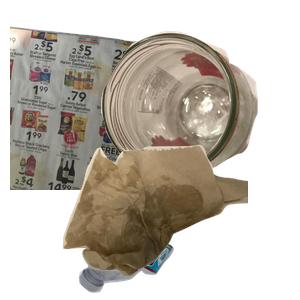glass: (98, 29, 300, 198)
paper: (10, 21, 222, 201)
plastic: (76, 131, 280, 300)
trash: (60, 142, 300, 300)
